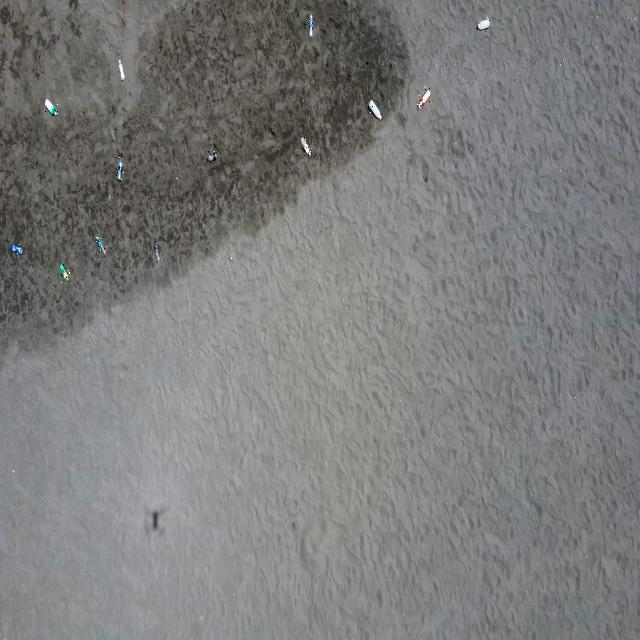plastic-bottle: (416, 88, 431, 111), (368, 98, 383, 120), (44, 96, 58, 118), (298, 135, 310, 157), (59, 262, 70, 284), (476, 17, 491, 33), (96, 236, 107, 256), (116, 156, 124, 183), (118, 58, 126, 82), (9, 243, 23, 255), (153, 239, 160, 263), (204, 151, 217, 163), (308, 15, 314, 40)
